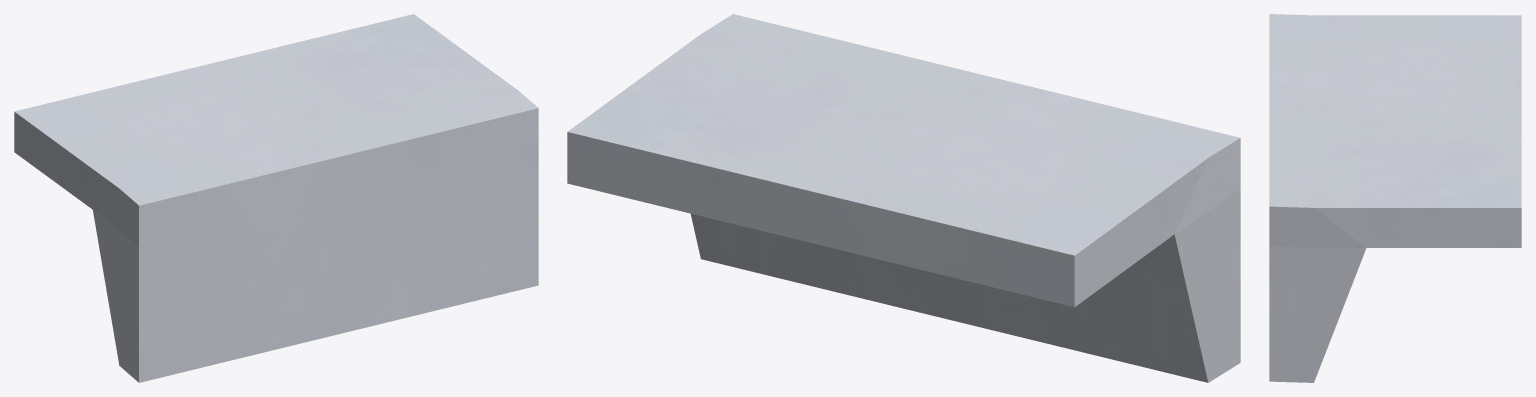
The model's file is Shelf_07.glb.
3 renders of one model, left to right at view 1: azimuth 30°, elevation 25°; view 2: azimuth 150°, elevation 25°; view 3: azimuth 270°, elevation 25°, orthographic. The views are drawn at different scales.
Parts seen in each view (by area): view 1: Shelf_07; view 2: Shelf_07; view 3: Shelf_07.
Part boxes in pixels (box(x1,y1,x2,y2)): Shelf_07: box(14, 14, 538, 382); Shelf_07: box(567, 14, 1240, 382); Shelf_07: box(1269, 14, 1521, 382).
Size of the model in its own units: 0.1071 by 0.0451 by 0.0589.
1 material, 1 textured.
